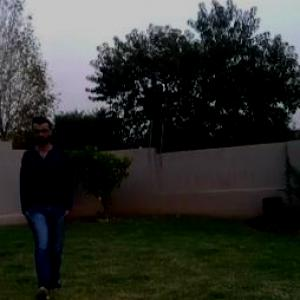follow: (19, 115, 77, 294)
